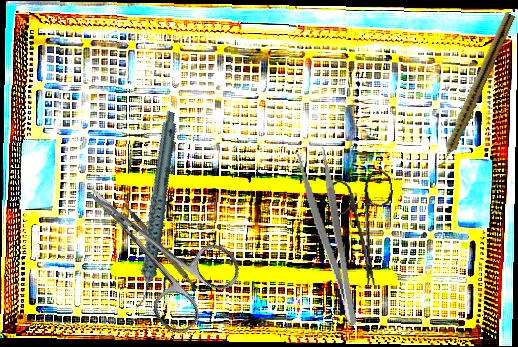Dressing Forceps: (295, 146, 362, 330)
Handpiece: (94, 110, 216, 310), (433, 10, 517, 171)
Iris Scissors: (57, 152, 248, 340), (325, 169, 406, 294)
Scalpel Handle: (122, 192, 200, 299)
